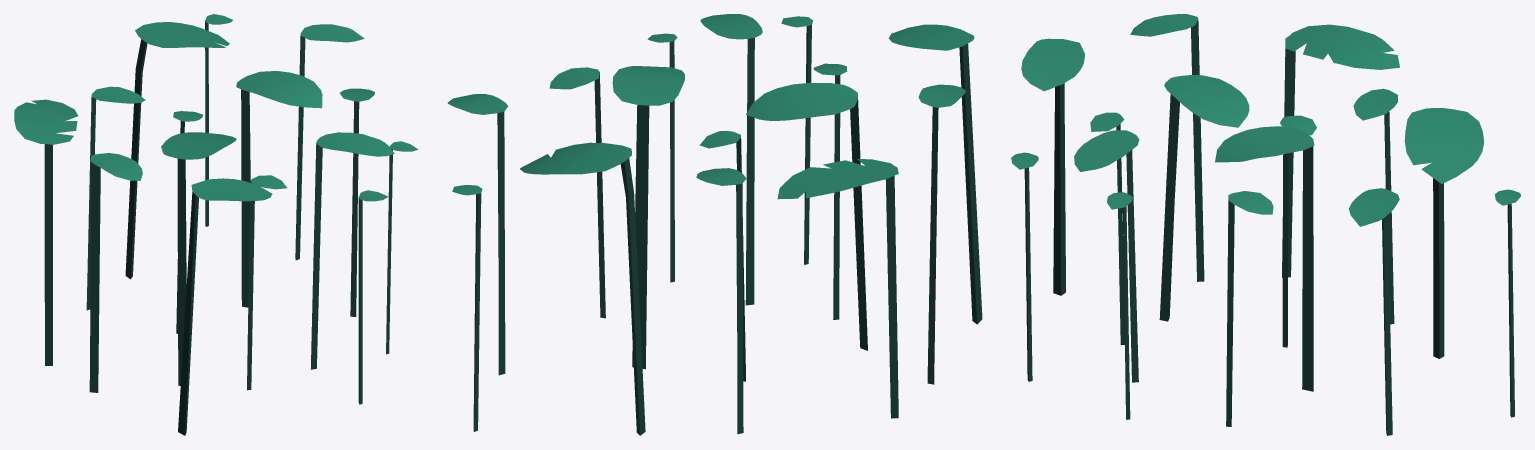
File: plant_monstera_B_carpet.fbx
The picture shows the model from 3 angles, left to right: view 1: azimuth 30°, elevation 25°; view 2: azimuth 150°, elevation 25°; view 3: azimuth 270°, elevation 25°; orthographic projection. The views are drawn at different scales.
Parts seen in each view (by area): view 1: plant_monstera_D_leaf_B_A, plant_monstera_D_leaf_B_D, plant_monstera_D_leaf_B_E, plant_monstera_D_leaf_B_B, plant_monstera_D_leaf_B_C, plant_monstera_D_leaf_B_G, plant_monstera_D_leaf_B_F, plant_monstera_D_leaf_B_H, plant_monstera_D_leaf_B_J, plant_monstera_D_leaf_B_I, plant_monstera_D_leaf_B_O, plant_monstera_D_leaf_B_M (+3 smaller); view 2: plant_monstera_D_leaf_B_D, plant_monstera_D_leaf_B_C, plant_monstera_D_leaf_B_A, plant_monstera_D_leaf_B_B, plant_monstera_D_leaf_B_E, plant_monstera_D_leaf_B_F, plant_monstera_D_leaf_B_H, plant_monstera_D_leaf_B_G, plant_monstera_D_leaf_B_I, plant_monstera_D_leaf_B_J, plant_monstera_D_leaf_B_L, plant_monstera_D_leaf_B_O (+3 smaller); view 3: plant_monstera_D_leaf_B_B, plant_monstera_D_leaf_B_D, plant_monstera_D_leaf_B_C, plant_monstera_D_leaf_B_E, plant_monstera_D_leaf_B_A, plant_monstera_D_leaf_B_F, plant_monstera_D_leaf_B_H, plant_monstera_D_leaf_B_G, plant_monstera_D_leaf_B_J, plant_monstera_D_leaf_B_I, plant_monstera_D_leaf_B_K, plant_monstera_D_leaf_B_M (+3 smaller).
Part boxes in pixels (x1,y1,x2,y2): plant_monstera_D_leaf_B_A: [14, 99, 77, 365]; plant_monstera_D_leaf_B_D: [236, 71, 322, 307]; plant_monstera_D_leaf_B_E: [178, 178, 272, 435]; plant_monstera_D_leaf_B_B: [125, 22, 229, 279]; plant_monstera_D_leaf_B_C: [161, 132, 236, 385]; plant_monstera_D_leaf_B_G: [89, 153, 142, 392]; plant_monstera_D_leaf_B_F: [310, 132, 394, 369]; plant_monstera_D_leaf_B_H: [295, 24, 364, 260]; plant_monstera_D_leaf_B_J: [340, 88, 374, 316]; plant_monstera_D_leaf_B_I: [86, 86, 145, 310]; plant_monstera_D_leaf_B_O: [247, 175, 286, 390]; plant_monstera_D_leaf_B_M: [358, 190, 388, 404]; plant_monstera_D_leaf_B_D: [612, 66, 684, 369]; plant_monstera_D_leaf_B_C: [746, 82, 867, 350]; plant_monstera_D_leaf_B_A: [777, 159, 898, 418]; plant_monstera_D_leaf_B_B: [520, 142, 645, 435]; plant_monstera_D_leaf_B_E: [888, 24, 982, 324]; plant_monstera_D_leaf_B_F: [700, 14, 762, 305]; plant_monstera_D_leaf_B_H: [447, 94, 508, 375]; plant_monstera_D_leaf_B_G: [918, 84, 965, 384]; plant_monstera_D_leaf_B_I: [696, 168, 746, 434]; plant_monstera_D_leaf_B_J: [549, 67, 605, 318]; plant_monstera_D_leaf_B_L: [452, 185, 482, 431]; plant_monstera_D_leaf_B_O: [813, 63, 847, 319]; plant_monstera_D_leaf_B_B: [1404, 108, 1484, 358]; plant_monstera_D_leaf_B_D: [1215, 126, 1314, 391]; plant_monstera_D_leaf_B_C: [1159, 75, 1249, 321]; plant_monstera_D_leaf_B_E: [1021, 38, 1085, 295]; plant_monstera_D_leaf_B_A: [1282, 24, 1399, 277]; plant_monstera_D_leaf_B_F: [1074, 130, 1139, 382]; plant_monstera_D_leaf_B_H: [1349, 188, 1399, 435]; plant_monstera_D_leaf_B_G: [1130, 14, 1204, 281]; plant_monstera_D_leaf_B_J: [1226, 191, 1273, 426]; plant_monstera_D_leaf_B_I: [1353, 88, 1397, 324]; plant_monstera_D_leaf_B_K: [1280, 115, 1316, 347]; plant_monstera_D_leaf_B_M: [1011, 152, 1038, 381].
Bounding box in the file's own units: 108 × 67.83 × 120.
